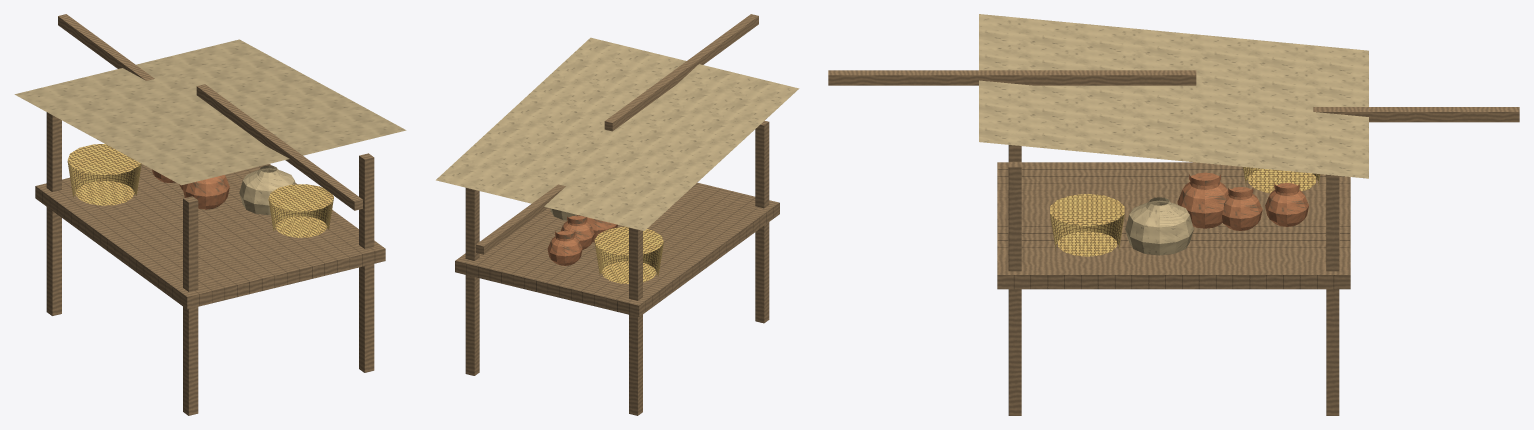
The model's file is stall.gltf.
3 renders of one model, left to right at view 1: azimuth 30°, elevation 25°; view 2: azimuth 150°, elevation 25°; view 3: azimuth 270°, elevation 25°, orthographic. The views are drawn at different scales.
Parts seen in each view (by area): view 1: Stall; view 2: Stall; view 3: Stall.
Boxes of the visible parts, box(x1,y1,x2,y2) form: Stall: box(14, 14, 406, 415); Stall: box(436, 14, 799, 415); Stall: box(828, 14, 1519, 415).
Bounding box in the file's own units: 2.1 × 2.22 × 4.79.
5 materials, 5 textured.
